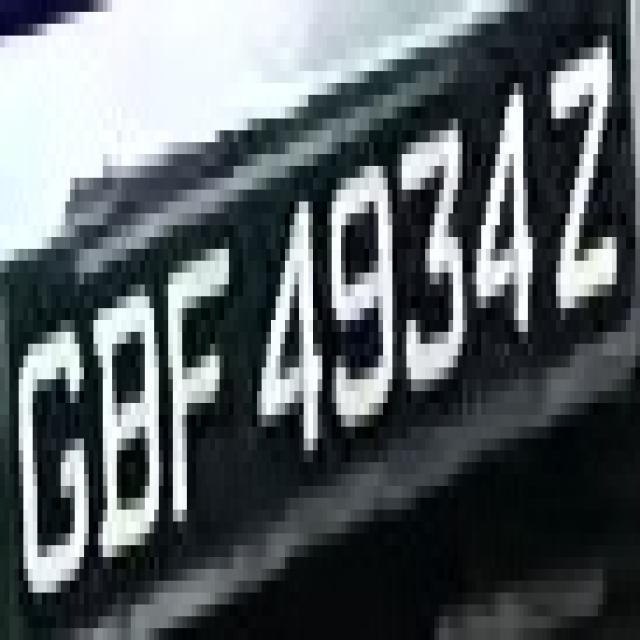3: (388, 107, 462, 403)
4: (243, 178, 332, 486), (458, 71, 542, 356)
9: (322, 166, 397, 450)
B: (89, 272, 168, 580)
F: (159, 213, 243, 557)
G: (14, 296, 98, 581)
Z: (542, 23, 631, 356)
